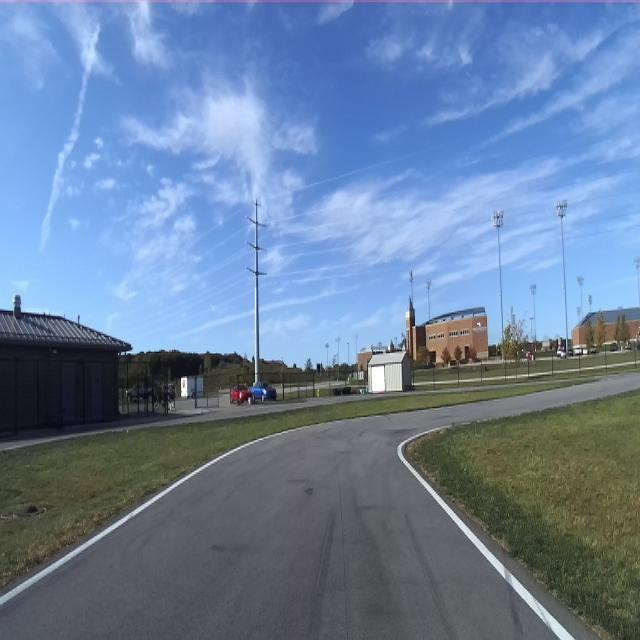white-line: (0, 420, 346, 606), (398, 426, 574, 639)
